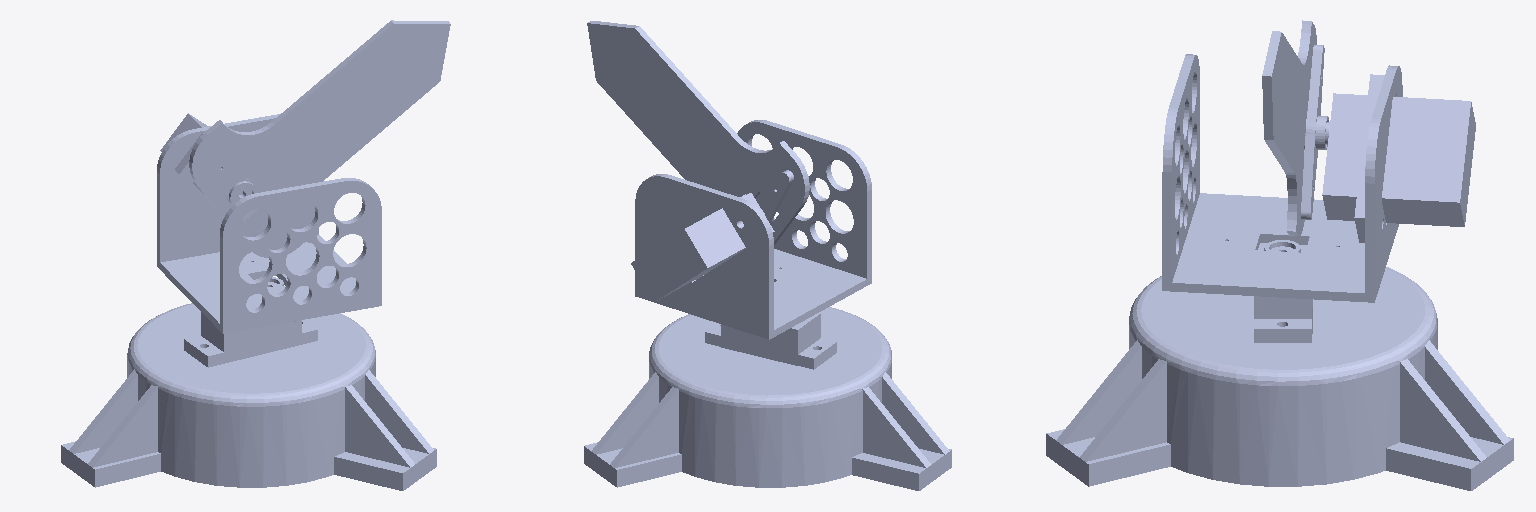
The robot description file, URDF, robot "roboturdf":
<?xml version="1.0" encoding="utf-8"?>
<!-- This URDF was automatically created by SolidWorks to URDF Exporter! Originally created by [author] ([email redacted]) 
     Commit Version: 1.6.0-4-g7f85cfe  Build Version: 1.6.7995.38578
     For more information, please see http://wiki.ros.org/sw_urdf_exporter -->
<robot
  name="roboturdf">
  <link
    name="base_link">
    <inertial>
      <origin
        xyz="-0.00991569326653178 -0.00913564327655161 0.0120638268093608"
        rpy="0 0 0" />
      <mass
        value="0.0424207954539648" />
      <inertia
        ixx="2.16321488293071E-05"
        ixy="9.94980765555521E-16"
        ixz="8.95804033158309E-17"
        iyy="2.15757798258962E-05"
        iyz="2.411565593253E-16"
        izz="3.74667249407743E-05" />
    </inertial>
    <visual>
      <origin
        xyz="0 0 0"
        rpy="0 0 0" />
      <geometry>
        <mesh
          filename="package://urdf_tutorial/meshes/base_link.STL" />
      </geometry>
      <material
        name="">
        <color
          rgba="0.792156862745098 0.819607843137255 0.933333333333333 1" />
      </material>
    </visual>
    <collision>
      <origin
        xyz="0 0 0"
        rpy="0 0 0" />
      <geometry>
        <mesh
          filename="package://urdf_tutorial/meshes/base_link.STL" />
      </geometry>
    </collision>
  </link>
  <link
    name="link1">
    <inertial>
      <origin
        xyz="3.5593E-05 0.014619 0"
        rpy="0 0 0" />
      <mass
        value="0.0082741" />
      <inertia
        ixx="6.5846E-07"
        ixy="-4.5775E-09"
        ixz="-1.5516E-23"
        iyy="5.1597E-07"
        iyz="-6.0176E-23"
        izz="9.7842E-07" />
    </inertial>
    <visual>
      <origin
        xyz="0 0 0"
        rpy="0 0 0" />
      <geometry>
        <mesh
          filename="package://urdf_tutorial/meshes/link1.STL" />
      </geometry>
      <material
        name="">
        <color
          rgba="0.79216 0.81961 0.93333 1" />
      </material>
    </visual>
    <collision>
      <origin
        xyz="0 0 0"
        rpy="0 0 0" />
      <geometry>
        <mesh
          filename="package://urdf_tutorial/meshes/link1.STL" />
      </geometry>
    </collision>
  </link>
  <joint
    name="joint1"
    type="fixed">
    <origin
      xyz="-0.010043 -0.0092626 0.0055839"
      rpy="1.5708 0 0" />
    <parent
      link="base_link" />
    <child
      link="link1" />
    <axis
      xyz="0 0 0" />
  </joint>
  <link
    name="link2">
    <inertial>
      <origin
        xyz="5.2042E-18 0.0029752 -8.6736E-19"
        rpy="0 0 0" />
      <mass
        value="0.00041234" />
      <inertia
        ixx="1.5141E-09"
        ixy="1.2535E-24"
        ixz="-2.068E-23"
        iyy="3.3477E-08"
        iyz="3.4431E-25"
        izz="3.2482E-08" />
    </inertial>
    <visual>
      <origin
        xyz="0 0 0"
        rpy="0 0 0" />
      <geometry>
        <mesh
          filename="package://urdf_tutorial/meshes/link2.STL" />
      </geometry>
      <material
        name="">
        <color
          rgba="0.79216 0.81961 0.93333 1" />
      </material>
    </visual>
    <collision>
      <origin
        xyz="0 0 0"
        rpy="0 0 0" />
      <geometry>
        <mesh
          filename="package://urdf_tutorial/meshes/link2.STL" />
      </geometry>
    </collision>
  </link>
  <joint
    name="joint2"
    type="continuous">
    <origin
      xyz="0.005207 0.02975 0"
      rpy="-3.1416 -1.4454 3.1416" />
    <parent
      link="link1" />
    <child
      link="link2" />
    <axis
      xyz="0 1 0" />
  </joint>
  <link
    name="link3">
    <inertial>
      <origin
        xyz="-0.0014847 0.010393 -9.4182E-05"
        rpy="0 0 0" />
      <mass
        value="0.0079558" />
      <inertia
        ixx="2.5184E-06"
        ixy="8.9278E-08"
        ixz="-2.2474E-08"
        iyy="3.8924E-06"
        iyz="1.9527E-08"
        izz="3.589E-06" />
    </inertial>
    <visual>
      <origin
        xyz="0 0 0"
        rpy="0 0 0" />
      <geometry>
        <mesh
          filename="package://urdf_tutorial/meshes/link3.STL" />
      </geometry>
      <material
        name="">
        <color
          rgba="0.79216 0.81961 0.93333 1" />
      </material>
    </visual>
    <collision>
      <origin
        xyz="0 0 0"
        rpy="0 0 0" />
      <geometry>
        <mesh
          filename="package://urdf_tutorial/meshes/link3.STL" />
      </geometry>
    </collision>
  </link>
  <joint
    name="joint3"
    type="fixed">
    <origin
      xyz="0 0.004 -6.3975E-05"
      rpy="0 -0.005563 0" />
    <parent
      link="link2" />
    <child
      link="link3" />
    <axis
      xyz="0 0 0" />
  </joint>
  <link
    name="link4">
    <inertial>
      <origin
        xyz="3.5593E-05 0.014619 1.3878E-17"
        rpy="0 0 0" />
      <mass
        value="0.0082741" />
      <inertia
        ixx="6.5846E-07"
        ixy="-4.5775E-09"
        ixz="2.5725E-22"
        iyy="5.1597E-07"
        iyz="8.2718E-23"
        izz="9.7842E-07" />
    </inertial>
    <visual>
      <origin
        xyz="0 0 0"
        rpy="0 0 0" />
      <geometry>
        <mesh
          filename="package://urdf_tutorial/meshes/link4.STL" />
      </geometry>
      <material
        name="">
        <color
          rgba="0.79216 0.81961 0.93333 1" />
      </material>
    </visual>
    <collision>
      <origin
        xyz="0 0 0"
        rpy="0 0 0" />
      <geometry>
        <mesh
          filename="package://urdf_tutorial/meshes/link4.STL" />
      </geometry>
    </collision>
  </link>
  <joint
    name="joint4"
    type="fixed">
    <origin
      xyz="-0.038256 0.021532 0.0016152"
      rpy="-3.1416 -0.8716 1.5708" />
    <parent
      link="link3" />
    <child
      link="link4" />
    <axis
      xyz="0 0 0" />
  </joint>
  <link
    name="link5">
    <inertial>
      <origin
        xyz="6.9389E-18 0.00289 6.9389E-18"
        rpy="0 0 0" />
      <mass
        value="0.00041234" />
      <inertia
        ixx="1.5141E-09"
        ixy="1.7513E-23"
        ixz="-6.8953E-24"
        iyy="3.3477E-08"
        iyz="-2.068E-25"
        izz="3.2482E-08" />
    </inertial>
    <visual>
      <origin
        xyz="0 0 0"
        rpy="0 0 0" />
      <geometry>
        <mesh
          filename="package://urdf_tutorial/meshes/link5.STL" />
      </geometry>
      <material
        name="">
        <color
          rgba="0.79216 0.81961 0.93333 1" />
      </material>
    </visual>
    <collision>
      <origin
        xyz="0 0 0"
        rpy="0 0 0" />
      <geometry>
        <mesh
          filename="package://urdf_tutorial/meshes/link5.STL" />
      </geometry>
    </collision>
  </link>
  <joint
    name="joint5"
    type="continuous">
    <origin
      xyz="0.005207 0.029835 0"
      rpy="0 -0.26894 0" />
    <parent
      link="link4" />
    <child
      link="link5" />
    <axis
      xyz="0 1 0" />
  </joint>
  <link
    name="link6">
    <inertial>
      <origin
        xyz="-8.2845E-05 0.001 -0.024692"
        rpy="0 0 0" />
      <mass
        value="0.0036791" />
      <inertia
        ixx="1.6299E-06"
        ixy="-1.5882E-22"
        ixz="-3.0229E-09"
        iyy="1.9249E-06"
        iyz="1.0919E-22"
        izz="2.9738E-07" />
    </inertial>
    <visual>
      <origin
        xyz="0 0 0"
        rpy="0 0 0" />
      <geometry>
        <mesh
          filename="package://urdf_tutorial/meshes/link6.STL" />
      </geometry>
      <material
        name="">
        <color
          rgba="0.79216 0.81961 0.93333 1" />
      </material>
    </visual>
    <collision>
      <origin
        xyz="0 0 0"
        rpy="0 0 0" />
      <geometry>
        <mesh
          filename="package://urdf_tutorial/meshes/link6.STL" />
      </geometry>
    </collision>
  </link>
  <joint
    name="joint6"
    type="fixed">
    <origin
      xyz="-5.9375E-05 0.0059147 0"
      rpy="3.1416 5.0333E-05 0" />
    <parent
      link="link5" />
    <child
      link="link6" />
    <axis
      xyz="0 0 0" />
  </joint>

  <ros2_control name="RRBotSystemPositionOnly" type="system">
    <hardware>
      <plugin>ros2_control_demo_example_1/RRBotSystemPositionOnlyHardware</plugin>
        <param name="example_param_hw_start_duration_sec">0</param>
        <param name="example_param_hw_stop_duration_sec">3.0</param>
        <param name="example_param_hw_slowdown">100</param>
    </hardware>
    <joint name="joint2">
      <command_interface name="position">
        <param name="min">-3</param>
        <param name="max">3</param>
      </command_interface>
      <state_interface name="position"/>
    </joint>
    <joint name="joint5">
      <command_interface name="position">
        <param name="min">-3</param>
        <param name="max">3</param>
      </command_interface>
      <state_interface name="position"/>
    </joint>

  </ros2_control>

</robot>

--- What the picture shows (computed from the rendered views, not written in the file) ---
Views: 3 orthographic renders of the robot side by side, from view 1: azimuth 30°, elevation 25°; view 2: azimuth 150°, elevation 25°; view 3: azimuth 270°, elevation 25°.
Model roboturdf with 7 links and 6 joints (2 continuous, 4 fixed), rooted at base_link, posed every joint at zero.
Visible links, largest first — view 1: base_link, link3, link6, link1, link4; view 2: base_link, link3, link6, link4, link1, link5; view 3: base_link, link3, link4, link6, link1, link5.
Boxes of the visible links, left/top/right/bottom form: base_link: left=61, top=303, right=436, bottom=490; link3: left=157, top=114, right=381, bottom=333; link6: left=189, top=20, right=450, bottom=257; link1: left=184, top=312, right=317, bottom=367; link4: left=160, top=113, right=260, bottom=205; base_link: left=584, top=307, right=951, bottom=490; link3: left=635, top=120, right=871, bottom=339; link6: left=587, top=21, right=809, bottom=244; link4: left=631, top=193, right=774, bottom=301; link1: left=705, top=313, right=836, bottom=369; link5: left=755, top=170, right=793, bottom=224; base_link: left=1046, top=267, right=1513, bottom=490; link3: left=1162, top=54, right=1402, bottom=302; link4: left=1322, top=74, right=1475, bottom=242; link6: left=1262, top=20, right=1316, bottom=235; link1: left=1254, top=243, right=1311, bottom=342; link5: left=1301, top=45, right=1328, bottom=219.
Size in the robot's own frame: 0.107 by 0.096 by 0.1076 metres.
Meshes: 7 distinct files referenced, 7 mesh visuals loaded (7 binary STL).